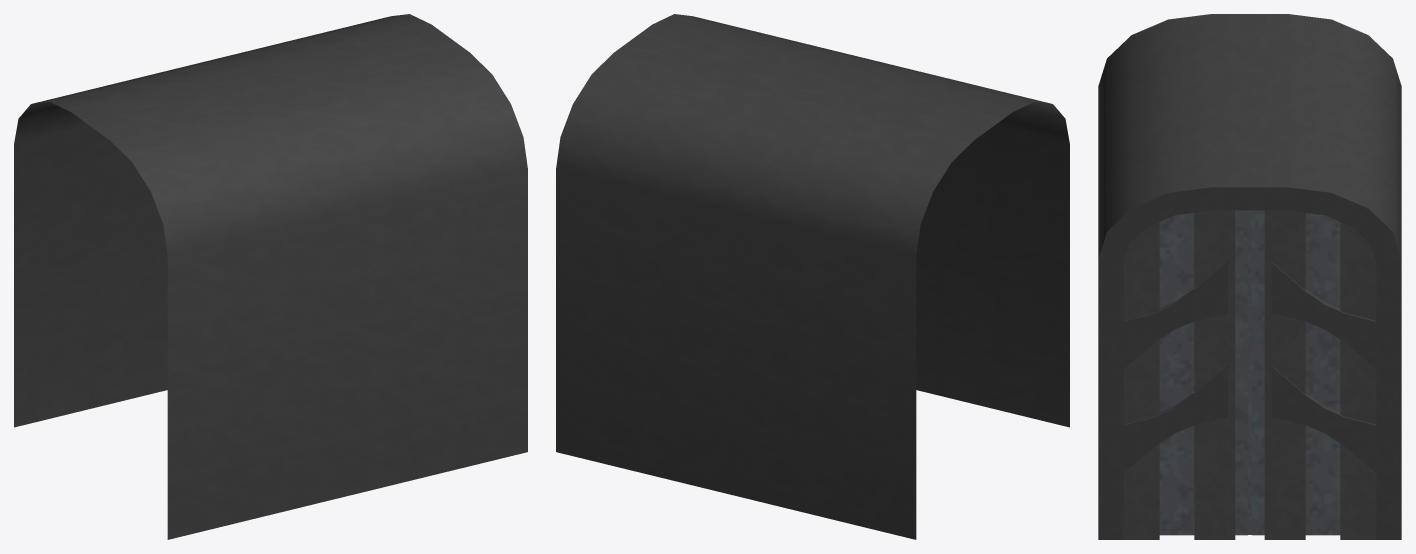
Rendered from TheObservatory_Extension_Door.fbx.
The picture shows the model from 3 angles, left to right: view 1: azimuth 30°, elevation 25°; view 2: azimuth 150°, elevation 25°; view 3: azimuth 270°, elevation 25°; orthographic projection.
Parts seen in each view (by area): view 1: TheObservatory_Extension_Door; view 2: TheObservatory_Extension_Door; view 3: TheObservatory_Extension_Door.
Boxes of the visible parts, x1,y1,x2,y2 form: TheObservatory_Extension_Door: (14,14,527,539); TheObservatory_Extension_Door: (556,14,1069,539); TheObservatory_Extension_Door: (1098,14,1401,539).
Size of the model in its own units: 385 by 367 by 284.
